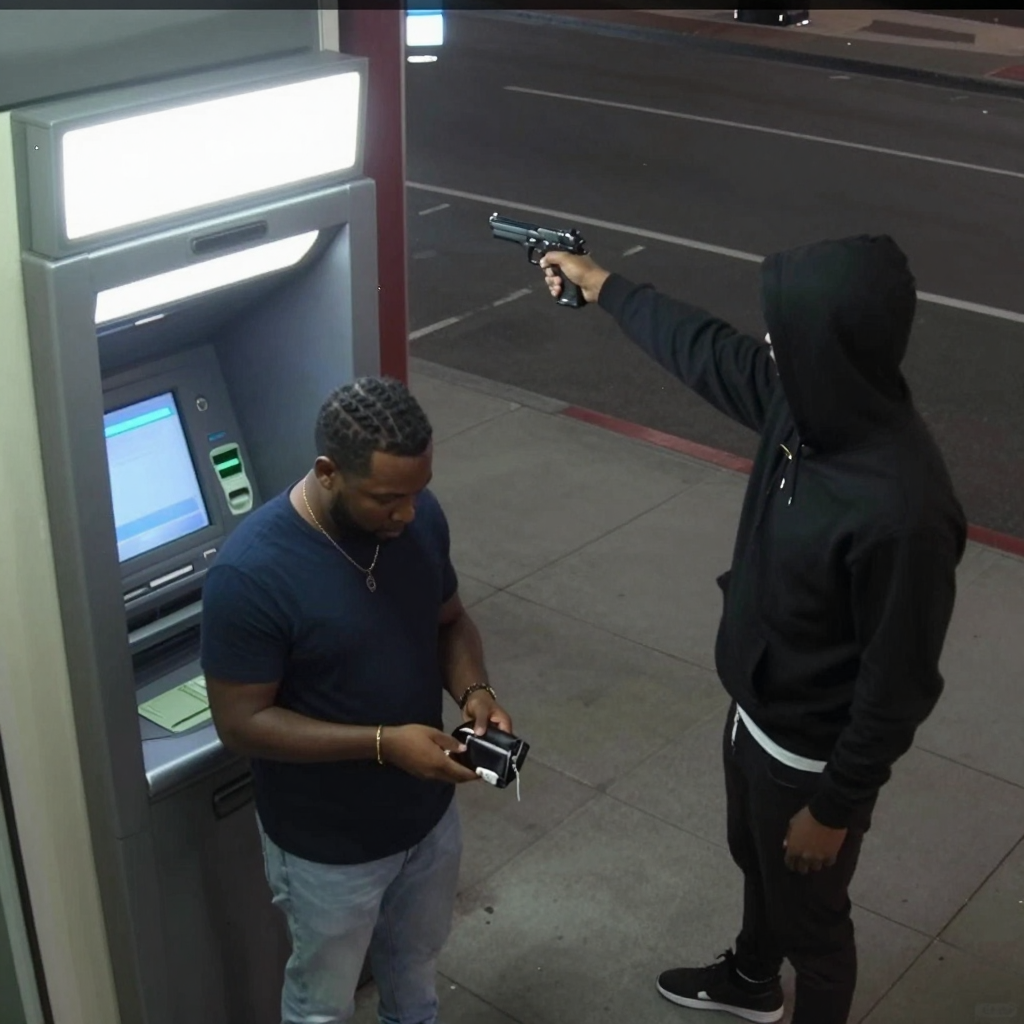Robbery: (537, 232, 969, 1023), (199, 374, 517, 1024)
Shooting: (488, 218, 584, 305)
